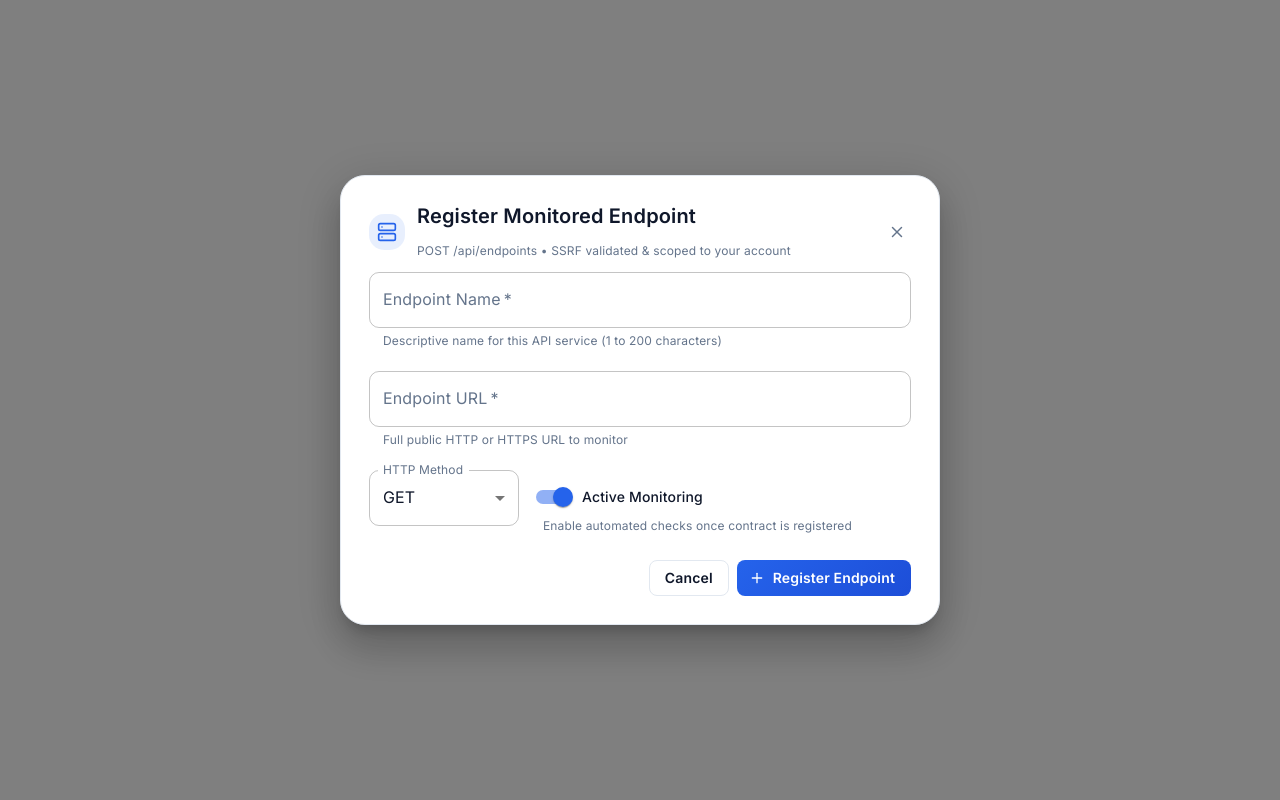
Test: AddEndpointDialog › validates URL protocol format
This screenshot has width=1280, height=800.
Type "Payment API" into the field labelled "Endpoint Name *".
click(640, 300); type("Payment API")  # box [369, 272, 911, 328]
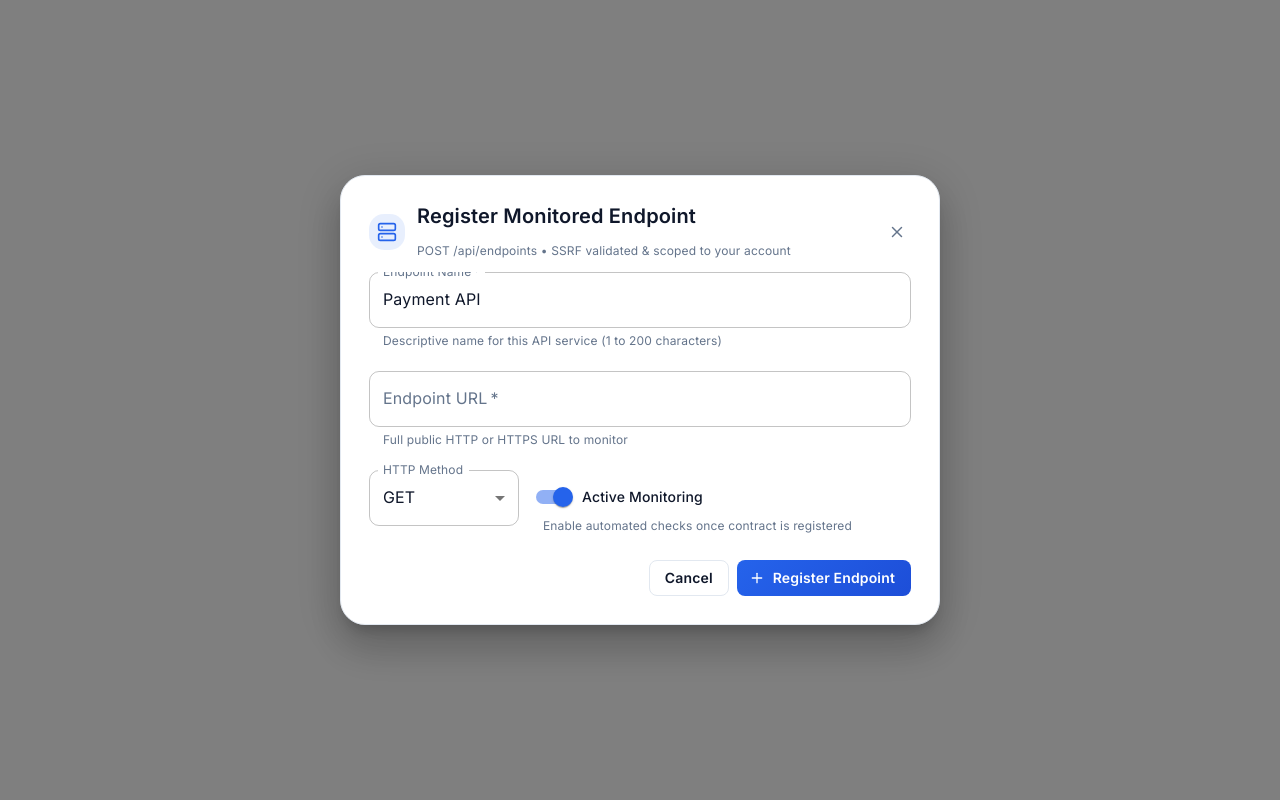
Type "ftp://api.example.com" into the field labelled "Endpoint URL *".
click(640, 399); type("ftp://api.example.com")  # box [369, 371, 911, 427]
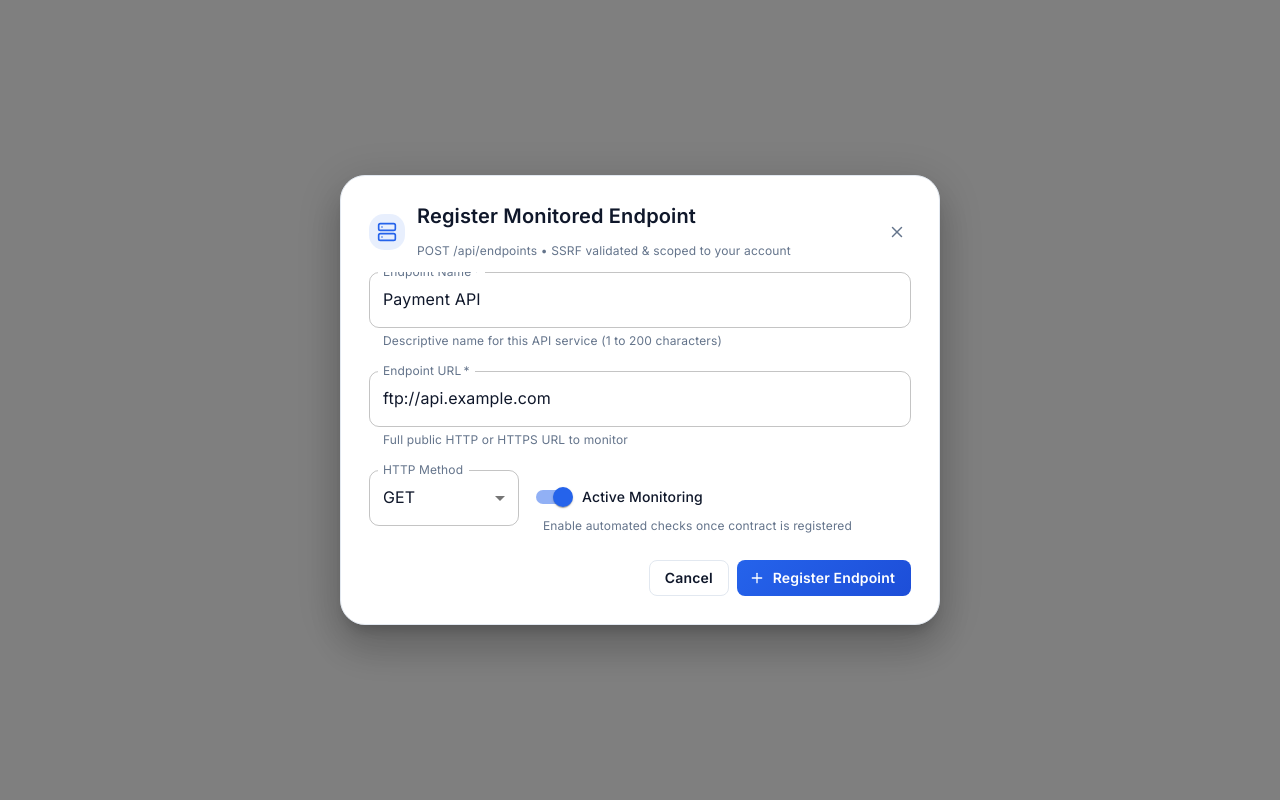
Click the button with test id "submit-endpoint-btn".
click(824, 578)  # box [737, 560, 911, 596]
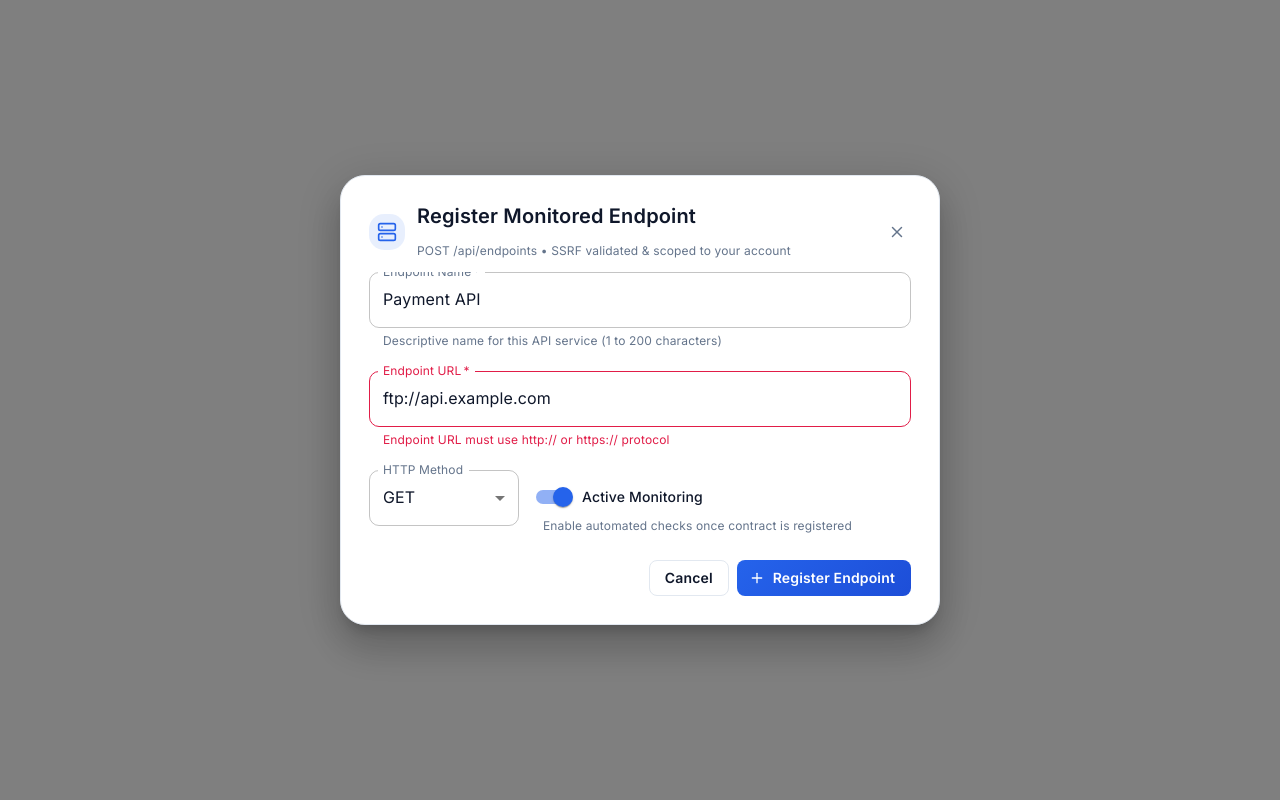
Now the text "Endpoint URL must use http:// or https:// protocol" is shown, box [383, 432, 670, 447]
